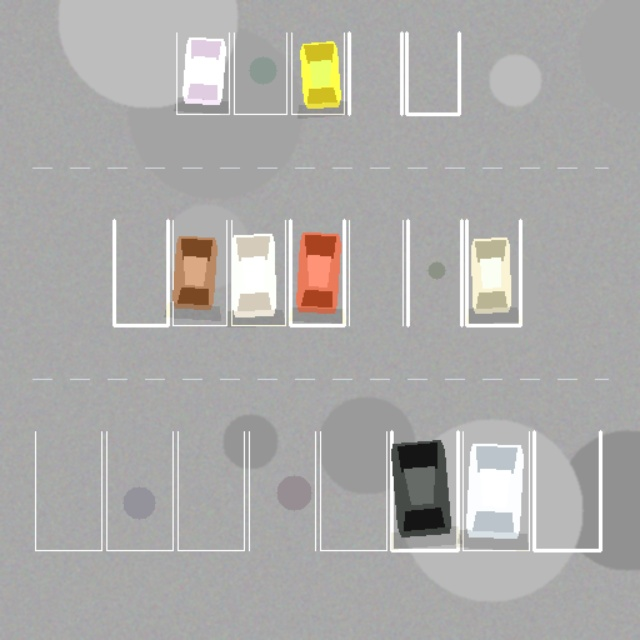space-empty: (35, 431, 101, 550), (106, 431, 172, 550), (178, 431, 244, 550), (249, 431, 315, 550), (320, 431, 386, 550), (534, 431, 600, 550), (114, 220, 168, 325), (349, 220, 402, 325), (408, 220, 461, 325), (406, 33, 459, 114), (234, 33, 286, 114), (349, 33, 401, 114)
space-occupied: (391, 431, 458, 550), (462, 431, 529, 550), (172, 220, 226, 325), (231, 220, 285, 325), (290, 220, 344, 325), (466, 220, 520, 325), (176, 33, 229, 114), (291, 33, 344, 114)
